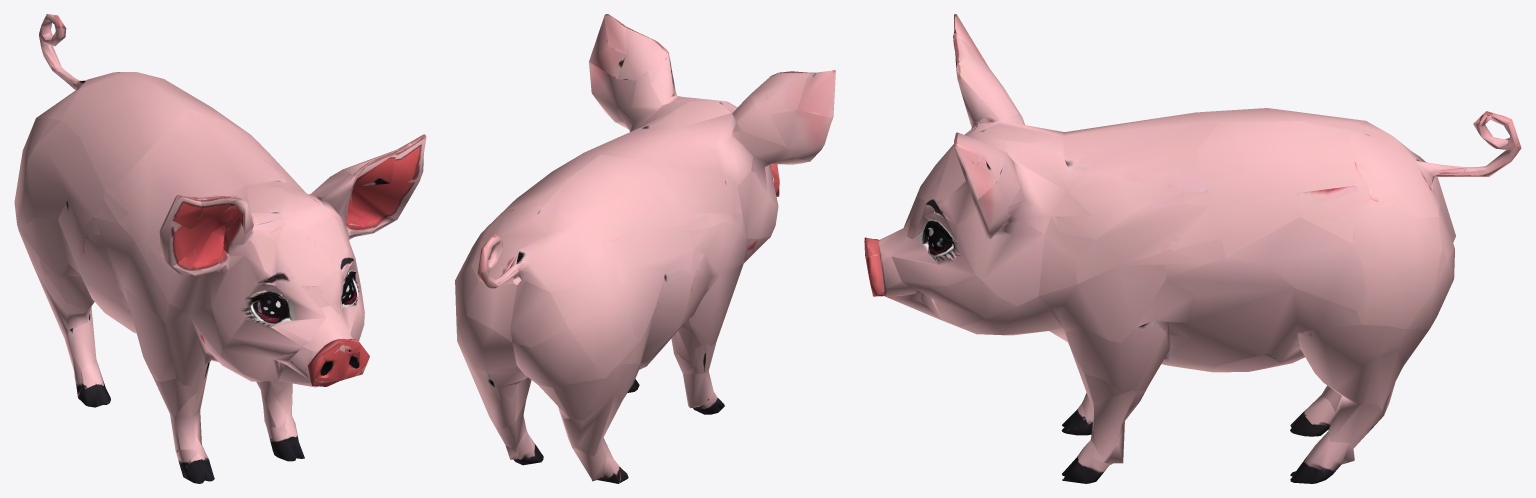
File: farm-pig.glb
3 renders of one model, left to right at view 1: azimuth 30°, elevation 25°; view 2: azimuth 150°, elevation 25°; view 3: azimuth 270°, elevation 25°, orthographic. The views are drawn at different scales.
Bounding box in the file's own units: 0.9592 × 1.19 × 1.9.
1 material, 1 textured.
